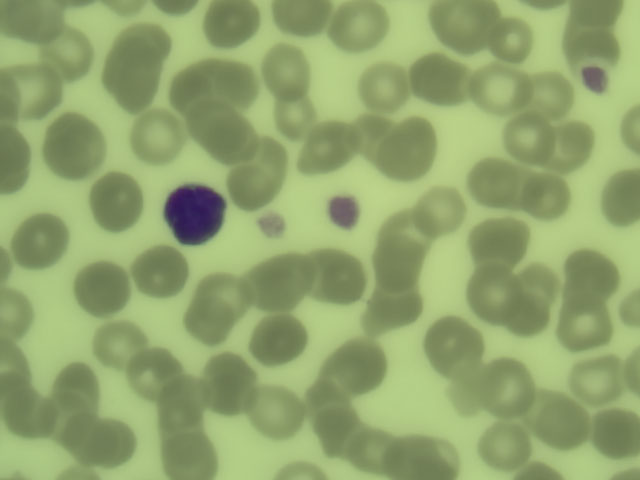Platelets: (325, 191, 366, 230), (578, 65, 611, 94), (255, 209, 286, 238)
RBC: (562, 247, 622, 305), (463, 265, 526, 319), (419, 316, 482, 367), (378, 123, 436, 178), (47, 121, 107, 174), (468, 158, 530, 209), (557, 305, 619, 355), (91, 172, 145, 229), (13, 212, 67, 269), (481, 360, 538, 412), (6, 65, 61, 116), (522, 172, 573, 224), (78, 264, 132, 313), (39, 32, 96, 78), (335, 334, 389, 382), (204, 113, 255, 161), (138, 248, 189, 294), (527, 71, 576, 117), (132, 115, 183, 159), (50, 361, 101, 405), (2, 389, 53, 433), (88, 319, 139, 363), (374, 276, 425, 320), (376, 233, 427, 277), (387, 207, 438, 251), (419, 186, 470, 230), (324, 260, 375, 304), (302, 248, 353, 292), (266, 254, 317, 298), (243, 266, 294, 310), (182, 303, 233, 347), (202, 272, 253, 316), (481, 423, 532, 467), (539, 399, 590, 443), (571, 359, 622, 403), (510, 257, 561, 301), (499, 296, 550, 340), (474, 218, 525, 262), (307, 396, 358, 440), (313, 361, 364, 405), (253, 388, 304, 432), (167, 436, 218, 480), (85, 420, 136, 464), (52, 403, 103, 447), (202, 357, 253, 401), (154, 372, 205, 416), (132, 346, 183, 390), (251, 318, 302, 362), (346, 426, 397, 470), (589, 410, 640, 454), (394, 434, 445, 478), (258, 47, 310, 90), (156, 413, 206, 456), (601, 172, 640, 226), (336, 3, 386, 43), (360, 67, 408, 105), (316, 119, 364, 157), (296, 131, 344, 169), (164, 67, 212, 105), (110, 57, 158, 95), (118, 19, 166, 57), (229, 172, 277, 210), (237, 133, 285, 171), (182, 104, 230, 142), (208, 63, 256, 101), (19, 5, 67, 43), (574, 29, 622, 67), (408, 58, 456, 96), (546, 128, 594, 166), (506, 116, 554, 154), (476, 68, 524, 106), (490, 20, 538, 58), (449, 15, 497, 53), (206, 1, 254, 38), (278, 1, 326, 38), (571, 1, 619, 38), (426, 1, 474, 38), (1, 1, 48, 38), (317, 426, 362, 464), (1, 293, 35, 337), (1, 126, 32, 174), (1, 340, 27, 397), (612, 104, 640, 155)
WBC: (166, 183, 228, 251)
